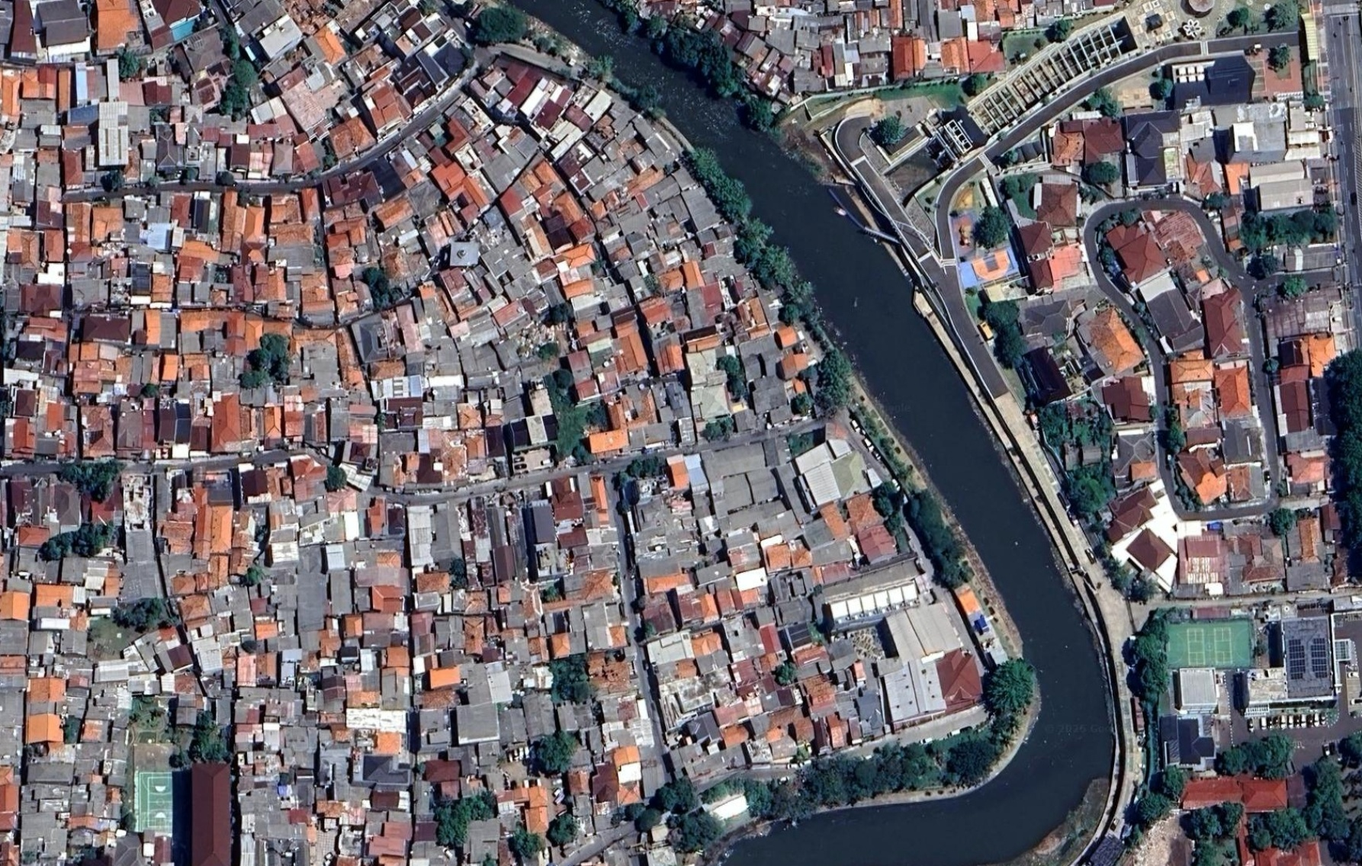building: (929, 8, 1149, 168), (1111, 496, 1214, 597), (1071, 301, 1149, 386), (1135, 273, 1207, 363), (655, 666, 741, 730), (1096, 476, 1178, 542), (1167, 53, 1258, 111), (1122, 113, 1184, 197), (885, 601, 962, 668), (1280, 618, 1336, 710), (1171, 434, 1240, 508), (1013, 288, 1097, 348), (1105, 215, 1173, 289), (825, 581, 921, 633), (1099, 368, 1170, 438), (374, 3, 453, 65), (188, 761, 235, 865), (1262, 286, 1347, 343), (879, 658, 947, 728), (1145, 198, 1209, 268), (349, 75, 414, 141), (29, 0, 94, 65), (1200, 285, 1251, 364), (114, 527, 163, 602), (1016, 346, 1072, 411), (384, 54, 444, 114), (1178, 523, 1231, 586), (1112, 431, 1161, 498), (246, 14, 306, 68), (936, 648, 986, 712), (370, 232, 418, 298), (459, 496, 494, 586), (416, 204, 472, 260), (1223, 119, 1290, 165), (277, 79, 330, 136), (1158, 716, 1216, 768), (319, 165, 385, 210), (1176, 138, 1225, 198), (319, 113, 374, 166), (173, 26, 229, 78), (772, 462, 816, 528), (480, 235, 534, 288), (453, 646, 497, 710), (338, 37, 393, 88), (296, 546, 328, 633), (684, 744, 748, 787), (495, 115, 545, 170), (91, 0, 141, 55), (298, 339, 343, 400), (719, 497, 789, 536), (579, 164, 638, 210), (1238, 530, 1287, 585), (17, 810, 68, 862), (444, 174, 494, 227), (461, 205, 514, 255), (702, 440, 766, 481), (626, 493, 693, 532), (503, 501, 536, 580), (830, 449, 882, 498), (439, 262, 483, 319), (302, 20, 352, 70), (1172, 378, 1220, 430), (120, 398, 162, 457), (15, 471, 59, 527), (188, 467, 243, 511), (793, 435, 853, 475), (1034, 176, 1081, 227), (721, 612, 767, 664), (511, 212, 556, 265), (1214, 361, 1255, 419), (450, 309, 502, 354), (95, 101, 129, 169), (38, 476, 82, 528), (537, 114, 585, 161), (1240, 666, 1289, 712), (325, 760, 371, 809), (337, 439, 380, 491), (1178, 775, 1240, 811), (349, 312, 391, 365), (1271, 241, 1338, 274), (1220, 417, 1266, 465), (405, 46, 451, 94), (123, 627, 171, 673), (563, 348, 601, 406), (332, 326, 365, 392), (134, 0, 175, 53), (34, 154, 63, 228), (150, 0, 211, 35), (77, 403, 115, 459), (1047, 243, 1093, 289), (234, 143, 280, 189), (799, 464, 844, 511), (239, 808, 305, 840), (506, 414, 563, 451), (619, 385, 662, 434), (681, 182, 724, 231), (560, 568, 618, 604), (6, 0, 39, 63), (587, 340, 624, 396), (494, 178, 539, 224), (1173, 670, 1220, 714), (611, 332, 650, 385), (232, 0, 285, 39), (463, 258, 505, 307), (253, 264, 293, 315), (1274, 383, 1313, 435), (403, 175, 448, 220), (526, 150, 569, 197), (352, 755, 411, 789), (1254, 180, 1314, 213), (478, 150, 522, 195), (430, 502, 463, 562), (266, 685, 310, 730), (518, 495, 556, 546), (196, 504, 234, 555), (1307, 333, 1351, 377), (738, 335, 781, 380), (184, 70, 227, 115), (856, 521, 898, 567), (372, 190, 418, 232), (1082, 116, 1123, 163), (690, 383, 731, 430), (209, 394, 241, 454), (365, 0, 415, 38), (419, 335, 462, 379), (1015, 215, 1057, 260), (685, 281, 726, 327), (745, 372, 789, 414), (459, 341, 503, 383), (455, 704, 500, 745), (522, 691, 558, 742), (406, 505, 435, 568), (344, 705, 407, 734), (71, 787, 119, 825), (6, 548, 58, 583), (763, 538, 812, 575), (429, 38, 471, 81), (366, 155, 406, 200), (218, 189, 246, 253), (546, 475, 584, 522), (583, 525, 621, 572), (0, 369, 38, 416), (1047, 121, 1084, 169), (1240, 776, 1289, 812), (741, 43, 781, 87), (519, 75, 559, 119), (462, 819, 501, 864), (698, 249, 748, 284), (581, 601, 614, 654), (114, 399, 144, 457), (38, 377, 68, 435), (1227, 463, 1269, 504), (711, 475, 754, 515), (646, 632, 695, 667), (640, 592, 678, 637), (75, 313, 132, 343), (600, 719, 655, 750), (0, 417, 36, 464), (388, 218, 430, 258), (632, 755, 671, 798), (121, 474, 152, 528), (78, 553, 116, 597), (854, 690, 888, 739), (18, 782, 70, 814), (589, 657, 635, 693), (63, 202, 91, 261), (80, 710, 135, 740), (1285, 450, 1332, 485), (844, 491, 885, 531), (555, 137, 596, 177), (196, 690, 237, 730), (723, 531, 762, 573), (1085, 829, 1129, 866), (296, 513, 345, 546), (627, 423, 677, 455), (599, 694, 649, 726), (184, 140, 223, 181), (416, 709, 453, 752), (189, 634, 226, 677), (92, 358, 128, 402), (367, 822, 411, 858), (438, 431, 469, 482), (1247, 161, 1305, 188), (809, 538, 855, 572), (467, 60, 507, 99), (432, 118, 472, 157), (506, 66, 544, 107), (686, 712, 723, 754), (553, 242, 600, 275), (392, 303, 423, 353), (207, 584, 250, 620), (756, 512, 800, 547), (738, 297, 773, 341), (652, 333, 687, 377), (770, 570, 815, 604), (270, 244, 321, 274), (383, 140, 421, 180), (686, 348, 727, 385), (147, 347, 183, 389), (267, 574, 301, 618), (527, 98, 565, 137), (250, 839, 307, 865), (258, 461, 294, 502), (331, 0, 372, 36), (334, 537, 376, 572), (236, 462, 270, 505), (371, 375, 423, 403), (672, 585, 705, 629), (801, 673, 841, 709), (642, 174, 683, 209), (71, 63, 106, 104), (246, 95, 287, 130), (380, 398, 422, 432), (170, 591, 212, 625), (1167, 352, 1213, 383), (50, 65, 79, 114), (233, 750, 282, 779), (0, 476, 33, 519), (19, 284, 63, 316), (712, 308, 749, 346), (597, 273, 633, 312), (314, 487, 359, 518), (153, 643, 194, 677), (1255, 844, 1318, 866), (588, 428, 630, 461), (142, 77, 184, 110), (207, 354, 240, 396), (238, 785, 280, 818), (913, 36, 943, 82), (202, 111, 248, 141), (189, 561, 226, 598), (729, 31, 765, 69), (762, 684, 806, 715), (153, 125, 184, 169), (821, 501, 854, 542), (543, 213, 576, 254), (0, 674, 26, 726), (1220, 195, 1244, 251), (703, 794, 749, 823), (525, 377, 556, 420), (824, 636, 860, 673), (296, 270, 332, 307), (264, 529, 300, 566), (156, 470, 191, 508), (968, 39, 1007, 73), (936, 6, 975, 40), (764, 22, 803, 56), (299, 60, 338, 94), (413, 685, 462, 712), (589, 762, 621, 803), (589, 470, 612, 527), (426, 284, 457, 326), (461, 97, 497, 133), (10, 152, 34, 206), (20, 315, 68, 342), (650, 213, 687, 248), (162, 192, 199, 227), (346, 15, 383, 50), (289, 327, 335, 355), (627, 164, 666, 197), (504, 269, 543, 302), (18, 66, 57, 99), (530, 542, 563, 581), (730, 659, 762, 699), (683, 323, 723, 355), (81, 492, 121, 524), (178, 307, 227, 333), (68, 278, 109, 309), (1297, 517, 1324, 564), (709, 16, 745, 51), (430, 157, 466, 192), (550, 191, 585, 227), (485, 660, 513, 705), (266, 192, 303, 226), (409, 292, 443, 329), (156, 520, 193, 554), (309, 81, 346, 115), (630, 528, 669, 560), (232, 686, 264, 725), (279, 0, 333, 23), (1027, 256, 1058, 296), (497, 708, 528, 748), (227, 263, 255, 307), (230, 507, 258, 551), (90, 204, 120, 245), (767, 85, 802, 120), (643, 571, 694, 595), (638, 295, 674, 329), (321, 713, 355, 749), (234, 775, 285, 799), (268, 222, 315, 248), (37, 340, 70, 377), (169, 691, 201, 729), (126, 261, 153, 306), (324, 397, 351, 442), (281, 387, 303, 442), (34, 431, 77, 459), (18, 98, 58, 128), (23, 714, 63, 744), (316, 729, 351, 763), (0, 67, 22, 121), (70, 362, 103, 398), (192, 504, 214, 558), (22, 745, 76, 767), (470, 168, 501, 206), (314, 616, 342, 658), (327, 570, 352, 617), (775, 598, 814, 628), (89, 685, 132, 712), (1275, 338, 1310, 371), (800, 516, 835, 549), (666, 520, 699, 555), (567, 214, 600, 249), (748, 468, 780, 504), (174, 395, 210, 427), (483, 579, 519, 611), (335, 217, 372, 248), (115, 104, 152, 135), (130, 139, 156, 183), (1178, 111, 1216, 141), (771, 705, 809, 735), (667, 740, 705, 770), (10, 229, 40, 267), (277, 745, 316, 774), (150, 471, 173, 520), (494, 789, 519, 834), (302, 402, 327, 447), (757, 66, 790, 100), (761, 435, 794, 469), (346, 568, 405, 587), (632, 475, 672, 503), (452, 141, 484, 176), (447, 744, 479, 779), (684, 451, 710, 494), (490, 334, 521, 370), (74, 741, 127, 762), (380, 668, 410, 705), (692, 560, 733, 587), (602, 602, 626, 648), (26, 761, 74, 784), (252, 633, 300, 656), (1287, 562, 1326, 590), (1064, 441, 1103, 469), (177, 238, 219, 264), (584, 151, 617, 184), (327, 246, 360, 279), (520, 286, 553, 319), (350, 235, 384, 267), (119, 643, 150, 678), (108, 834, 143, 865), (158, 554, 205, 577), (1223, 556, 1250, 596), (667, 380, 693, 421), (34, 583, 75, 609), (1280, 430, 1324, 454), (472, 132, 505, 164), (570, 291, 604, 322), (147, 623, 181, 654), (296, 300, 335, 327), (490, 544, 517, 583), (834, 663, 869, 693), (405, 249, 435, 284), (492, 299, 527, 329), (609, 742, 644, 772), (371, 728, 406, 758), (292, 135, 318, 175), (941, 40, 969, 77), (26, 654, 69, 678), (157, 671, 200, 695), (651, 382, 676, 423), (241, 204, 266, 245), (266, 499, 298, 531), (625, 227, 658, 258), (269, 110, 300, 143), (346, 391, 377, 424), (1184, 424, 1223, 450), (238, 314, 264, 353), (834, 46, 858, 88), (814, 560, 850, 588), (189, 191, 213, 233), (148, 272, 176, 308), (464, 617, 489, 657), (305, 686, 345, 711), (289, 455, 326, 482), (140, 834, 172, 865), (731, 270, 761, 303), (626, 273, 656, 306), (745, 735, 774, 769), (182, 617, 216, 646), (638, 555, 679, 579), (60, 149, 84, 190), (714, 700, 749, 728), (370, 585, 405, 613), (1328, 551, 1353, 590), (270, 139, 295, 178), (26, 677, 65, 702), (695, 648, 731, 675), (259, 56, 295, 83), (366, 495, 388, 539), (238, 406, 261, 448), (665, 454, 691, 491), (559, 265, 596, 291), (592, 114, 623, 145), (563, 103, 595, 133), (118, 147, 142, 187), (860, 54, 889, 87), (793, 67, 826, 96), (831, 689, 860, 722), (690, 627, 723, 656), (496, 367, 525, 400), (567, 764, 596, 797), (0, 621, 28, 655), (608, 198, 643, 225), (423, 404, 458, 431), (245, 119, 281, 145), (584, 89, 614, 120), (195, 326, 226, 356), (720, 719, 752, 748), (211, 630, 240, 662), (554, 699, 579, 736), (55, 654, 92, 679), (779, 353, 812, 381), (1235, 815, 1253, 866), (755, 650, 789, 677), (176, 354, 210, 381), (502, 630, 529, 664), (246, 582, 273, 616), (732, 586, 770, 610), (297, 186, 321, 224), (677, 549, 720, 570), (486, 505, 507, 548), (608, 104, 638, 134), (101, 277, 131, 307), (1225, 163, 1253, 195), (174, 255, 206, 283), (347, 416, 379, 444), (735, 568, 769, 594), (597, 840, 631, 866), (1322, 505, 1340, 554), (261, 406, 282, 448), (378, 432, 416, 455), (785, 622, 814, 652), (142, 222, 172, 251), (0, 591, 30, 620), (768, 734, 799, 762), (793, 643, 829, 667), (602, 140, 629, 172), (142, 195, 169, 227), (893, 38, 913, 81), (501, 312, 534, 338), (521, 582, 543, 621), (165, 499, 198, 525), (92, 661, 129, 684), (343, 671, 380, 694), (147, 253, 176, 282), (414, 782, 435, 822), (333, 293, 360, 324), (558, 549, 589, 576), (335, 801, 366, 828), (827, 712, 849, 750), (0, 726, 22, 764), (556, 525, 588, 551), (76, 718, 108, 744), (280, 726, 312, 752), (67, 261, 103, 284), (40, 229, 65, 262), (253, 653, 278, 686), (371, 791, 410, 812), (466, 431, 485, 474), (418, 449, 442, 483), (607, 394, 629, 431), (369, 359, 406, 381), (58, 556, 86, 585), (26, 630, 56, 657), (57, 629, 87, 656), (679, 260, 705, 291), (60, 124, 91, 150), (0, 263, 35, 286), (609, 302, 641, 327), (124, 242, 156, 267), (249, 263, 270, 301), (156, 401, 175, 443), (484, 425, 508, 458), (13, 339, 46, 363), (292, 479, 325, 503), (569, 81, 597, 109), (672, 166, 699, 195), (569, 167, 596, 196), (95, 341, 124, 368), (416, 573, 450, 596), (541, 278, 567, 308), (448, 243, 479, 268), (102, 59, 120, 102), (173, 402, 191, 445), (260, 688, 282, 723), (621, 211, 653, 235), (290, 775, 314, 807), (0, 0, 13, 59), (479, 742, 502, 775), (796, 660, 832, 681), (502, 57, 529, 85), (122, 673, 158, 694), (120, 194, 146, 223), (758, 624, 783, 654), (564, 278, 598, 300), (53, 697, 87, 719), (697, 594, 721, 625), (0, 154, 12, 216), (590, 800, 614, 831), (810, 718, 830, 755), (424, 374, 465, 392), (522, 666, 554, 689), (277, 652, 298, 687), (517, 166, 543, 194), (480, 401, 506, 429), (429, 666, 462, 688), (235, 654, 257, 687), (668, 194, 693, 223), (579, 328, 615, 348), (380, 646, 410, 670), (643, 845, 677, 866), (166, 573, 197, 596), (812, 48, 834, 80), (717, 279, 739, 311), (16, 524, 48, 546), (749, 712, 776, 738), (584, 127, 610, 154), (494, 97, 521, 123), (533, 256, 560, 282), (129, 308, 147, 347), (158, 310, 176, 349), (322, 544, 348, 571), (219, 0, 258, 18), (632, 113, 657, 141), (612, 122, 640, 147), (485, 290, 513, 315), (220, 334, 248, 359), (63, 680, 91, 705), (996, 2, 1020, 31), (715, 590, 739, 619), (401, 166, 430, 190), (527, 637, 551, 666), (8, 128, 37, 152), (188, 422, 211, 452), (387, 501, 406, 537), (30, 606, 66, 625), (426, 761, 460, 781), (128, 352, 148, 386), (1037, 2, 1063, 28), (659, 268, 686, 293), (402, 133, 427, 160), (117, 81, 145, 105), (221, 311, 245, 339), (568, 472, 592, 500), (72, 759, 100, 783), (103, 759, 127, 787), (99, 257, 128, 280), (272, 608, 295, 637), (917, 0, 935, 37), (172, 381, 209, 399), (345, 690, 380, 709), (845, 11, 865, 44), (69, 342, 99, 364), (101, 565, 121, 598), (353, 280, 374, 311), (274, 68, 305, 89), (645, 132, 670, 158), (631, 147, 657, 172), (550, 83, 576, 108), (566, 795, 592, 820), (253, 614, 279, 639), (665, 292, 689, 319), (679, 239, 703, 266), (525, 807, 549, 834), (229, 609, 253, 636), (194, 674, 221, 698), (37, 262, 65, 285), (337, 828, 360, 856), (875, 654, 904, 676), (0, 286, 22, 315), (0, 783, 19, 816), (0, 832, 19, 865), (652, 149, 678, 173), (619, 136, 645, 160), (456, 404, 482, 428), (465, 372, 496, 392), (67, 105, 98, 125), (341, 511, 361, 542), (26, 699, 57, 719), (793, 717, 815, 745), (228, 144, 250, 172), (497, 605, 525, 627), (208, 554, 229, 583), (229, 548, 250, 577), (87, 243, 125, 259), (774, 325, 799, 349), (677, 417, 697, 447), (452, 106, 476, 131), (35, 124, 60, 148), (241, 241, 266, 265), (176, 331, 202, 354), (297, 631, 320, 657), (297, 819, 320, 845), (1285, 524, 1302, 559), (448, 616, 466, 649), (463, 592, 490, 614), (460, 776, 487, 798), (144, 310, 160, 347), (86, 593, 117, 612), (362, 612, 393, 631), (795, 30, 823, 51), (1288, 128, 1320, 146), (1279, 366, 1311, 384), (339, 613, 363, 637), (743, 692, 766, 717), (654, 661, 679, 684), (443, 589, 466, 614), (173, 281, 195, 307), (1288, 107, 1307, 137), (550, 633, 571, 660), (427, 386, 460, 403), (0, 576, 33, 593), (240, 832, 257, 865), (239, 387, 267, 407), (541, 598, 581, 612), (67, 814, 102, 830), (753, 606, 777, 629), (734, 409, 758, 432), (532, 183, 556, 206), (618, 781, 641, 805), (316, 656, 339, 680), (262, 318, 291, 337), (618, 260, 643, 282), (571, 317, 596, 339), (337, 638, 359, 663), (1191, 607, 1230, 621), (769, 403, 795, 424), (599, 224, 625, 245), (351, 586, 372, 612), (285, 276, 301, 310), (692, 492, 712, 519), (86, 779, 106, 806), (262, 722, 280, 752), (414, 592, 442, 611), (433, 621, 452, 649), (1286, 144, 1319, 160), (587, 199, 611, 221), (391, 612, 407, 645), (605, 235, 630, 256), (412, 612, 433, 637), (189, 280, 210, 305), (96, 800, 122, 820), (0, 213, 32, 229), (729, 8, 752, 30), (697, 515, 720, 537), (427, 144, 449, 167), (610, 246, 634, 267), (120, 221, 141, 245), (363, 631, 391, 649), (414, 821, 439, 841), (617, 762, 642, 782), (365, 811, 385, 836), (379, 454, 394, 487), (820, 28, 846, 47), (0, 655, 26, 674), (495, 839, 514, 865), (647, 251, 669, 273), (676, 659, 699, 680), (701, 533, 724, 554), (414, 129, 435, 152), (32, 617, 69, 630), (978, 23, 1002, 43), (823, 421, 847, 441), (316, 799, 340, 819), (325, 233, 350, 252), (614, 320, 639, 339), (295, 654, 321, 672), (1020, 1, 1036, 30), (859, 39, 892, 53), (761, 672, 783, 693), (414, 633, 435, 655), (593, 312, 616, 332), (208, 284, 228, 307), (234, 727, 254, 750), (376, 551, 403, 568), (694, 7, 713, 31), (903, 1, 917, 33), (817, 15, 845, 31), (405, 451, 419, 483), (602, 191, 623, 212), (495, 77, 516, 98), (593, 215, 615, 235), (404, 352, 424, 374), (67, 609, 87, 631), (973, 1, 996, 20), (323, 206, 346, 225), (482, 615, 501, 638), (1331, 596, 1360, 611), (1064, 2, 1093, 17), (847, 717, 862, 746), (569, 632, 587, 656), (184, 123, 201, 148), (654, 200, 675, 220), (332, 276, 353, 296), (440, 781, 461, 801), (528, 787, 548, 808), (215, 129, 235, 150), (209, 616, 230, 636), (650, 824, 672, 843), (767, 16, 793, 32), (524, 622, 547, 640), (368, 540, 402, 552), (214, 147, 228, 176), (665, 248, 685, 268), (168, 225, 184, 250), (284, 808, 309, 824), (165, 105, 184, 126), (97, 821, 116, 842), (37, 146, 59, 164), (345, 203, 368, 220), (71, 829, 94, 846), (358, 649, 375, 672), (1231, 605, 1257, 620), (867, 12, 882, 38), (793, 16, 817, 32), (777, 55, 797, 74), (748, 14, 768, 33), (714, 222, 734, 241), (702, 13, 720, 34), (698, 228, 719, 246), (0, 128, 14, 155), (725, 0, 750, 15), (890, 1, 901, 35), (394, 455, 405, 488), (607, 100, 626, 119), (778, 8, 808, 20), (616, 183, 634, 203), (634, 191, 651, 212), (0, 811, 17, 832), (171, 123, 187, 145), (180, 105, 199, 123), (372, 855, 406, 865), (796, 1, 824, 13), (483, 646, 504, 662), (0, 764, 15, 786), (1280, 603, 1298, 621), (1263, 606, 1282, 623), (385, 811, 411, 823), (1177, 586, 1205, 597), (428, 121, 445, 139), (262, 387, 279, 405), (796, 51, 812, 70), (792, 376, 808, 395), (673, 316, 692, 332), (423, 653, 439, 672), (201, 126, 220, 142), (411, 654, 426, 674), (71, 585, 86, 605), (513, 786, 530, 803), (318, 756, 329, 781), (469, 123, 486, 139), (439, 651, 455, 668), (418, 430, 430, 452), (333, 855, 359, 865), (638, 259, 651, 277), (71, 789, 87, 803), (430, 429, 441, 449), (758, 6, 776, 18), (1208, 585, 1224, 598), (704, 242, 717, 258), (235, 723, 257, 732), (408, 856, 429, 865), (754, 0, 777, 8), (855, 1, 873, 11), (706, 744, 721, 756), (840, 1, 856, 12), (71, 784, 87, 795), (826, 1, 839, 14), (874, 0, 890, 10), (777, 0, 791, 6)
tree: (897, 482, 978, 592), (679, 138, 760, 229), (673, 24, 752, 110), (927, 724, 1012, 794), (795, 750, 869, 817), (1237, 206, 1340, 252), (55, 440, 125, 504), (1213, 727, 1295, 781), (1094, 548, 1161, 612), (1055, 458, 1120, 523), (1128, 610, 1171, 706), (875, 739, 946, 797), (430, 787, 502, 841), (1301, 755, 1347, 838), (745, 776, 818, 828), (836, 747, 902, 803), (743, 237, 803, 298), (602, 68, 670, 121), (108, 592, 183, 639), (241, 329, 295, 393), (663, 804, 726, 858), (981, 658, 1039, 716), (1029, 398, 1081, 455), (219, 56, 264, 121), (525, 726, 579, 780), (353, 258, 405, 314), (1247, 807, 1310, 852), (650, 19, 705, 68), (964, 201, 1016, 252), (182, 713, 234, 764), (470, 2, 530, 45), (870, 431, 917, 485), (37, 528, 115, 560), (727, 212, 776, 262), (862, 106, 911, 155), (538, 805, 587, 854), (547, 655, 594, 706), (651, 775, 701, 819), (1331, 358, 1361, 427), (503, 820, 549, 865), (715, 350, 754, 403), (989, 320, 1029, 371), (1182, 805, 1243, 838), (816, 349, 850, 408), (540, 366, 581, 414), (1131, 787, 1176, 828), (1081, 83, 1128, 122), (700, 773, 757, 803), (1149, 760, 1190, 801), (1337, 486, 1361, 556), (781, 277, 819, 321), (1334, 429, 1361, 490), (1260, 500, 1301, 540), (527, 22, 568, 62), (571, 399, 613, 437), (1272, 267, 1311, 307), (851, 400, 888, 442), (1167, 480, 1205, 518), (1072, 412, 1112, 448), (1331, 817, 1361, 864), (869, 481, 906, 519), (621, 802, 663, 834), (1042, 11, 1078, 47), (740, 95, 776, 131), (977, 299, 1020, 329), (637, 8, 672, 42), (436, 808, 466, 847), (1190, 840, 1236, 865), (958, 67, 992, 99), (114, 45, 145, 80), (1244, 252, 1280, 282), (539, 300, 575, 330), (984, 714, 1021, 743), (1081, 160, 1119, 187), (1264, 0, 1299, 29), (236, 562, 268, 593), (998, 171, 1041, 194), (624, 455, 665, 479), (1146, 73, 1177, 104), (566, 439, 597, 470), (219, 23, 243, 63), (699, 416, 734, 443), (769, 659, 800, 688), (784, 429, 818, 454), (1337, 731, 1361, 766), (1164, 415, 1186, 452), (1119, 822, 1147, 851), (880, 509, 909, 537), (97, 167, 126, 195), (164, 165, 200, 186), (312, 144, 339, 172), (531, 338, 561, 363), (582, 57, 611, 82), (1094, 242, 1119, 269), (1110, 208, 1142, 229), (1267, 44, 1291, 71), (615, 2, 639, 29), (1076, 182, 1104, 205), (324, 463, 347, 491), (1226, 6, 1251, 29), (995, 148, 1021, 170), (1198, 192, 1226, 212), (128, 383, 161, 398), (791, 393, 813, 415), (412, 0, 446, 14), (1089, 537, 1110, 559), (607, 468, 628, 490), (1302, 92, 1326, 111), (793, 365, 817, 384), (214, 169, 236, 187), (0, 337, 15, 362), (1263, 356, 1279, 374), (1031, 35, 1045, 50)
